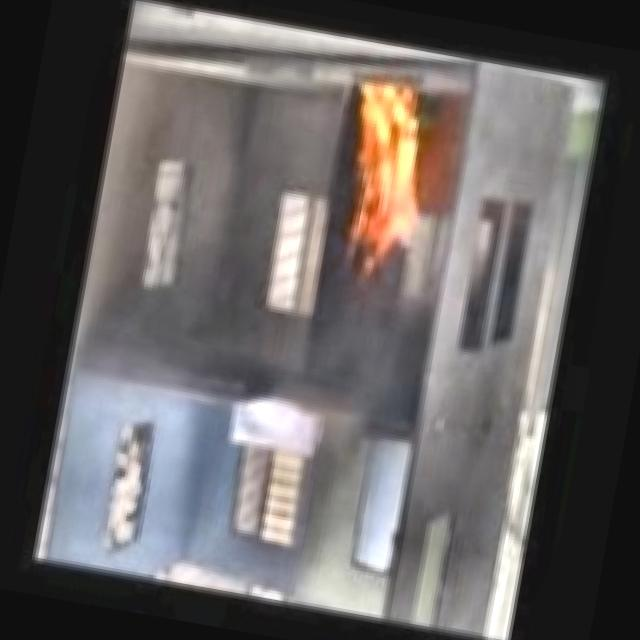fire: (328, 75, 453, 288)
